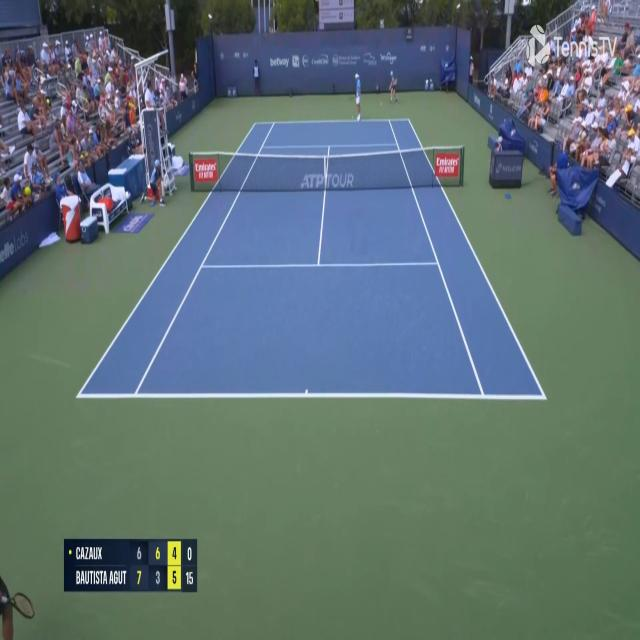tennis-player: (351, 71, 364, 123)
